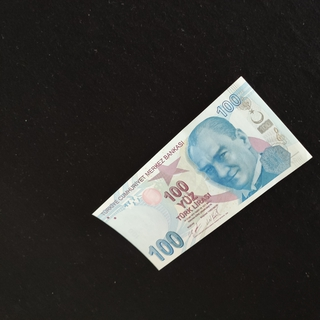100TLFront: (91, 75, 313, 271)
